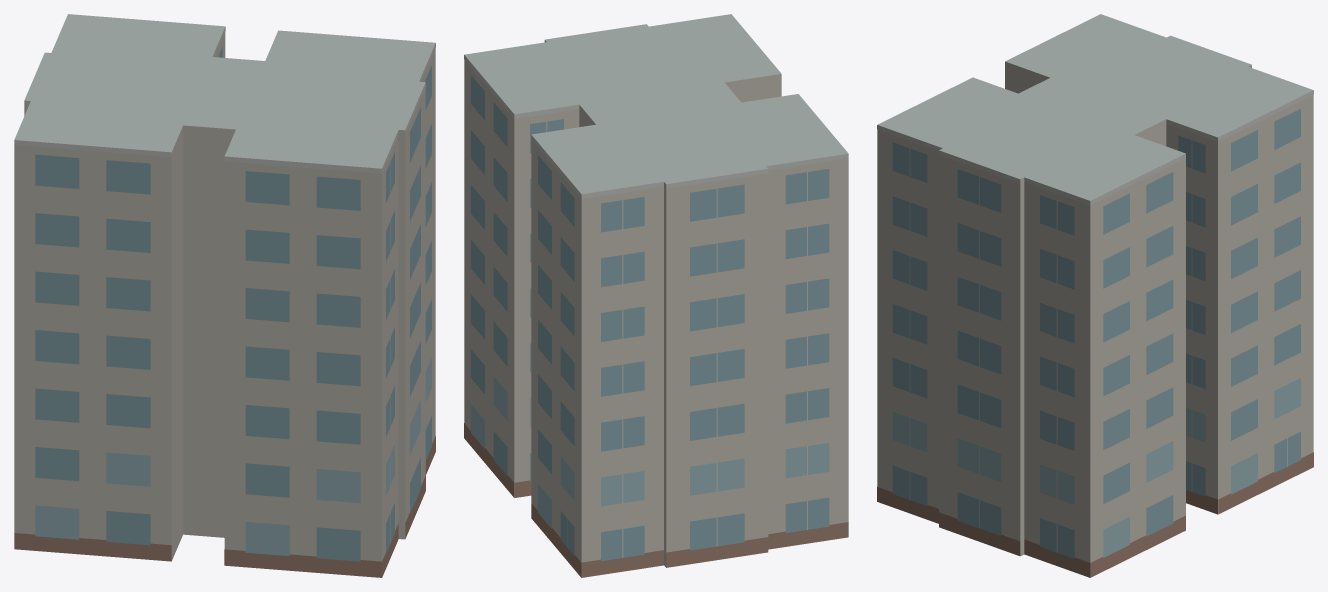
File: survey-upis-32649404.glb
3 views of the same model, side by side, from view 1: azimuth 30°, elevation 25°; view 2: azimuth 150°, elevation 25°; view 3: azimuth 270°, elevation 25° (orthographic). The views are drawn at different scales.
Visible parts, largest first — view 1: survey-upis-32649404.tmp; view 2: survey-upis-32649404.tmp; view 3: survey-upis-32649404.tmp.
Part boxes in pixels (x1=…): survey-upis-32649404.tmp: x1=14, y1=14, x2=435, y2=577; survey-upis-32649404.tmp: x1=464, y1=14, x2=848, y2=577; survey-upis-32649404.tmp: x1=877, y1=14, x2=1313, y2=577.
Size of the model in its own units: 21.49 by 20.2 by 21.21.
